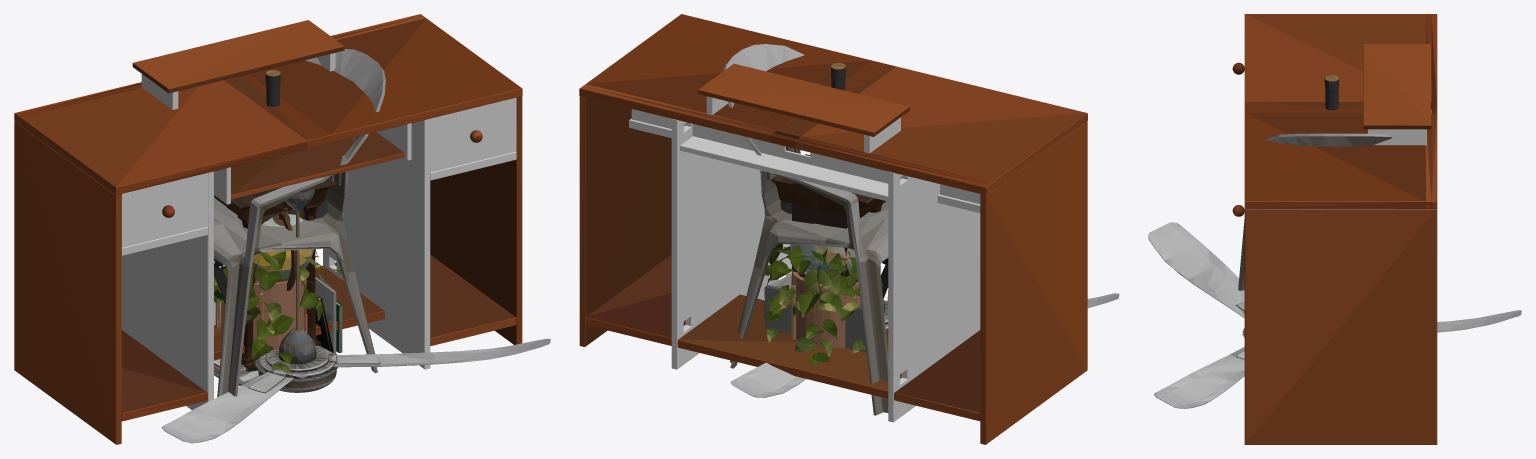
The model's file is desk.glb.
The picture shows the model from 3 angles, left to right: view 1: azimuth 30°, elevation 25°; view 2: azimuth 150°, elevation 25°; view 3: azimuth 270°, elevation 25°; orthographic projection. The views are drawn at different scales.
Visible parts, largest first — view 1: body (×8), ball; view 2: body (×5), screen, ball; view 3: body (×4).
Boxes of the visible parts, left/top/right/bottom form: body (×8): left=14, top=14, right=550, bottom=444; ball: left=252, top=214, right=313, bottom=282; body (×5): left=579, top=14, right=1119, bottom=444; screen: left=764, top=285, right=866, bottom=352; ball: left=790, top=223, right=855, bottom=280; body (×4): left=1148, top=14, right=1521, bottom=444.
Bounding box in the file's own units: 1.25 × 0.85 × 1.05.
